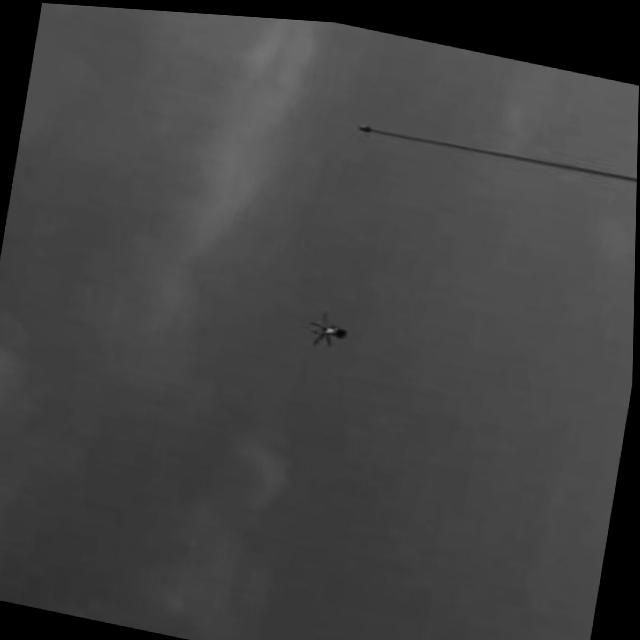helikopter: (304, 306, 351, 350)
